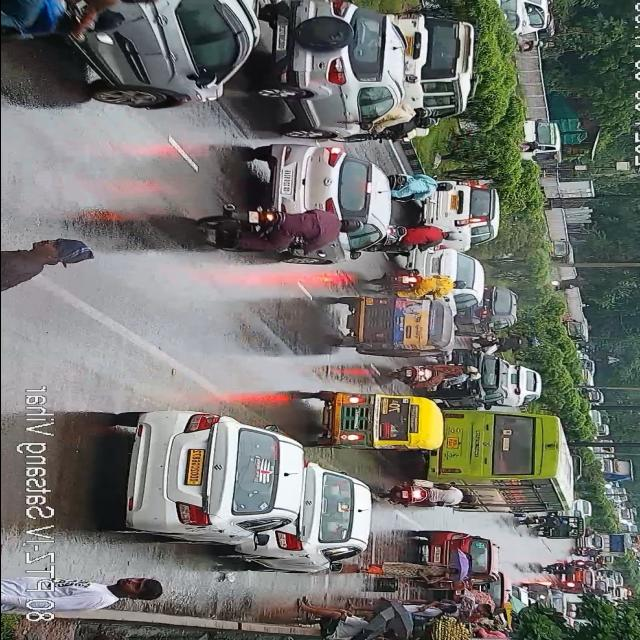2-wheelers: (206, 202, 367, 260), (1, 0, 143, 48), (364, 218, 459, 256), (384, 478, 468, 510), (366, 272, 469, 298), (390, 366, 484, 390), (390, 169, 444, 203), (520, 512, 568, 528), (543, 561, 582, 575), (576, 544, 604, 560)
auto: (308, 386, 445, 458), (328, 289, 454, 359), (537, 512, 587, 540), (548, 237, 572, 265)
bus: (429, 404, 583, 518)
car: (122, 412, 304, 547), (83, 0, 265, 116), (274, 3, 406, 144), (266, 137, 392, 259), (259, 467, 370, 572), (395, 3, 477, 141), (336, 0, 408, 136), (422, 180, 498, 258), (428, 344, 508, 410), (418, 524, 491, 592), (454, 282, 518, 336), (491, 362, 540, 410), (500, 0, 556, 37), (556, 562, 596, 595), (472, 332, 541, 351)
pedestrian: (56, 571, 160, 611), (296, 594, 386, 640), (356, 553, 471, 583), (341, 592, 471, 618)
